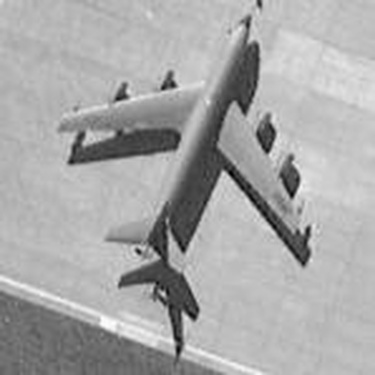airplane: (45, 6, 324, 307)
